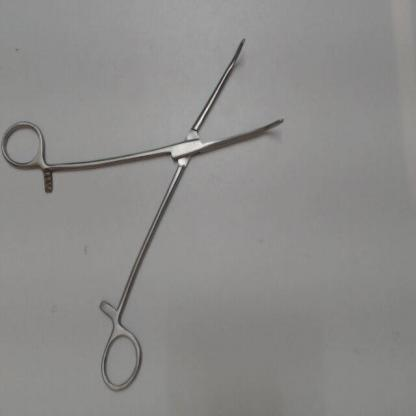Lahey Forceps: (0, 29, 289, 398)
